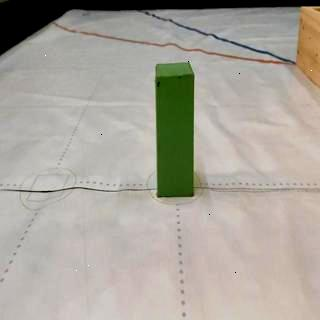greenbox: (156, 62, 197, 196)
